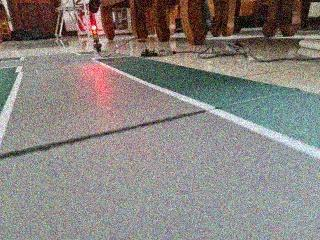red: (84, 20, 107, 50)
